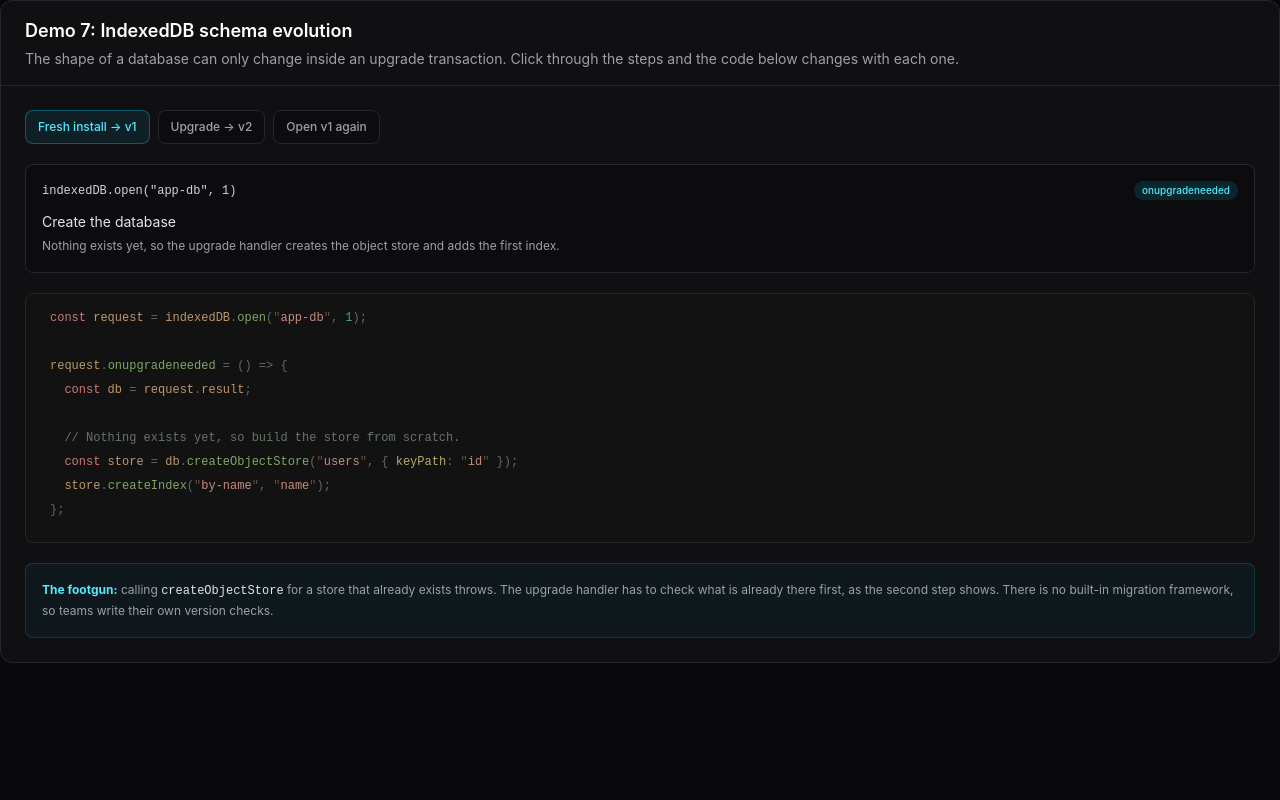
IndexedDbSchemaDemo › changes the code sample when a different step is picked
Expected: the text "by-email" is not shown
Expected: the text "VersionError" is not shown
Click the button "Upgrade → v2" at [211, 127], box [158,110,265,144]
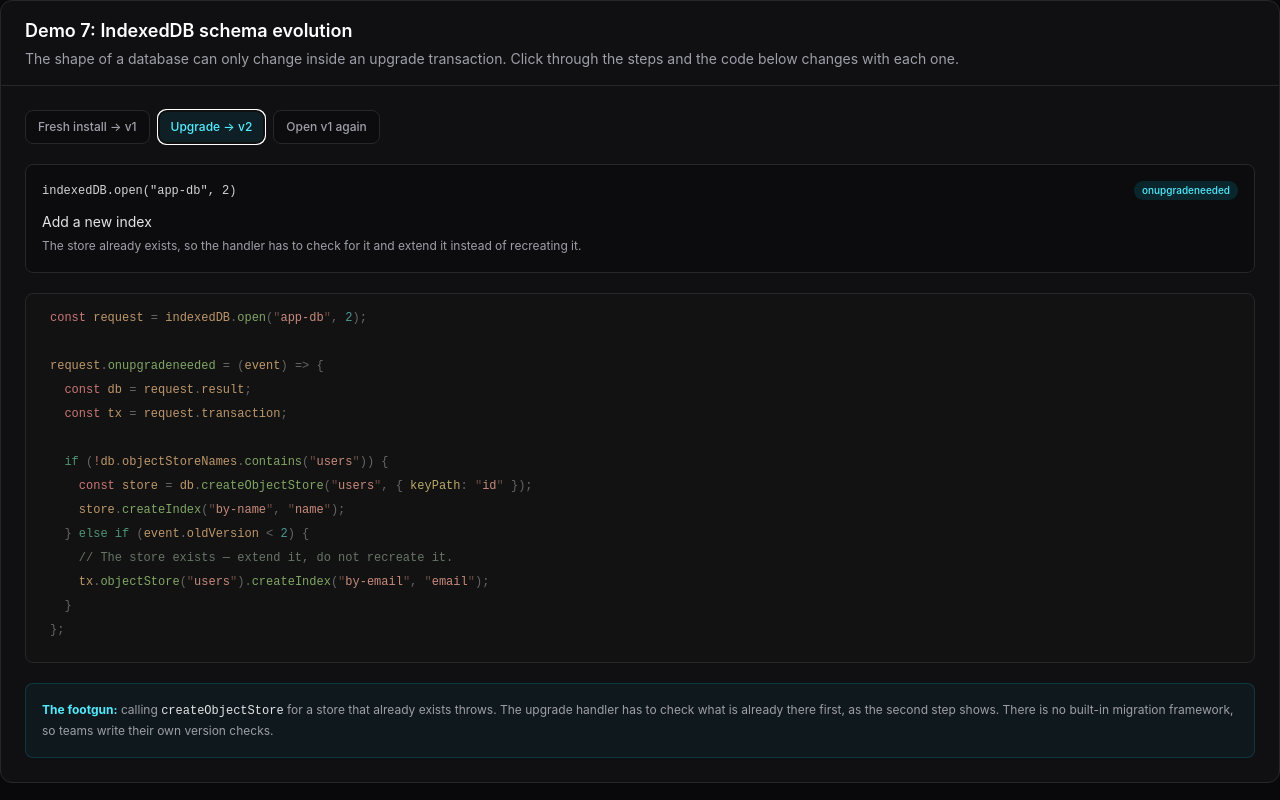
Expected: the text "by-email" is shown, [345,574,403,588]
Expected: the text "oldVersion" is shown, [187,526,259,540]
Click the button "Open v1 again" at [327, 127], box [273,110,380,144]
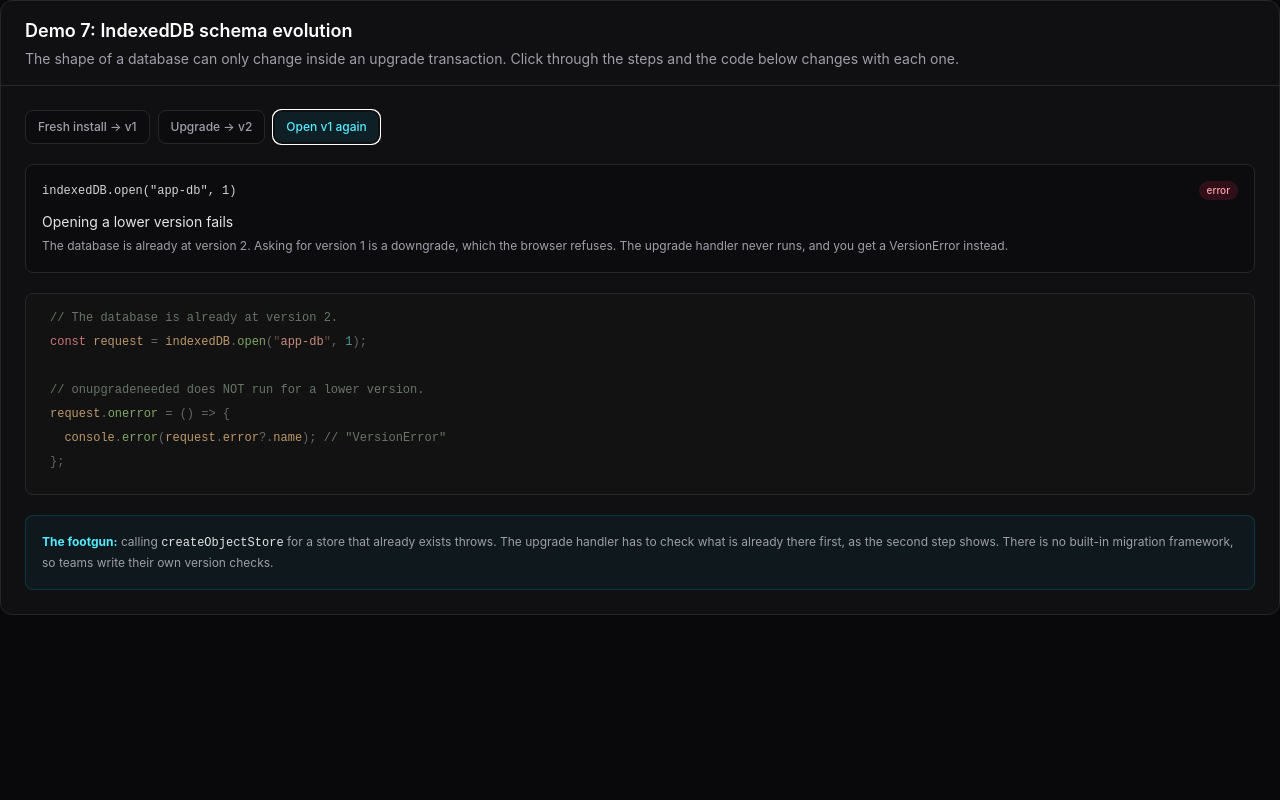
Expected: the text "VersionError" is shown, [42,238,1008,253]
Expected: the text "by-email" is gone
